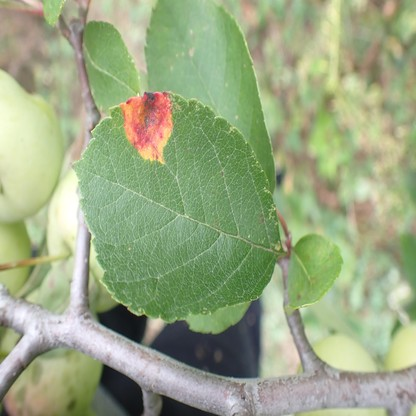rust: (120, 94, 172, 161)
